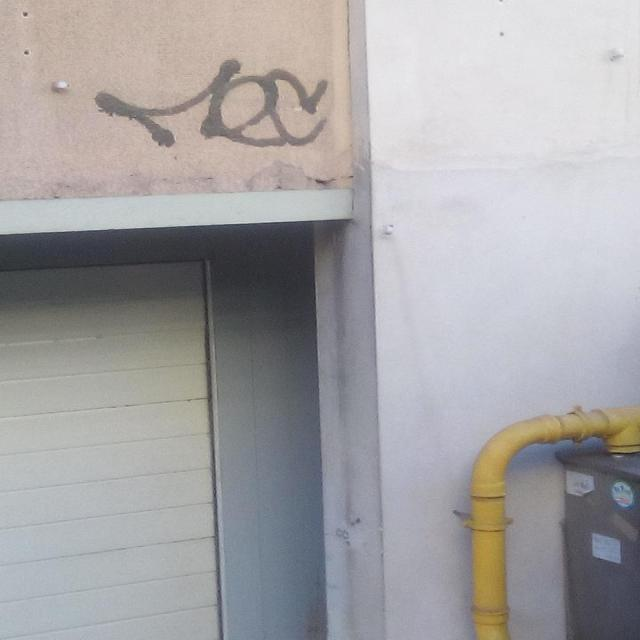nonspitting: (100, 57, 330, 148)
